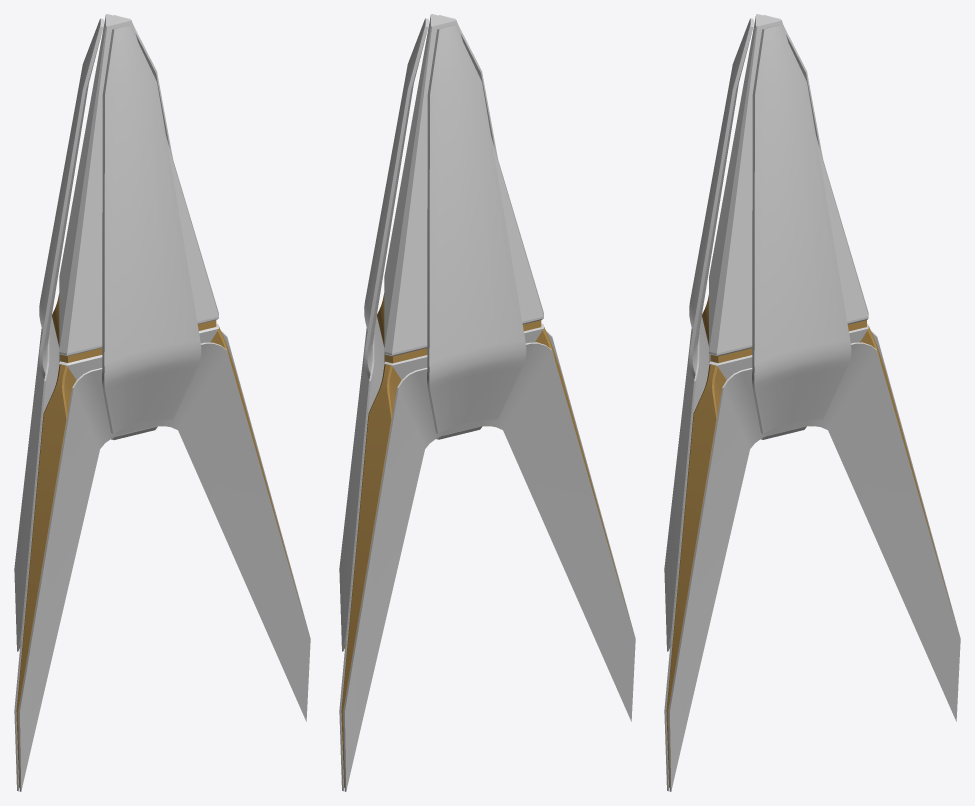
The model's file is centertower.glb.
3 renders of one model, left to right at view 1: azimuth 30°, elevation 25°; view 2: azimuth 150°, elevation 25°; view 3: azimuth 270°, elevation 25°, orthographic.
Parts seen in each view (by area): view 1: Plane.003, Plane, Cylinder.002, Cylinder.010, Plane.005, Plane.002, Cylinder.011, Plane.004; view 2: Plane.005, Plane.002, Cylinder.002, Cylinder.009, Plane.004, Plane.001, Cylinder.010, Plane.003; view 3: Plane.004, Plane.001, Cylinder.002, Cylinder.011, Plane.003, Plane, Cylinder.009, Plane.005.
Part boxes in pixels (bbox=[...]): Plane.003: bbox=[18, 342, 310, 791]; Plane: bbox=[102, 25, 201, 433]; Cylinder.002: bbox=[59, 14, 218, 439]; Cylinder.010: bbox=[16, 364, 76, 787]; Plane.005: bbox=[14, 316, 59, 791]; Plane.002: bbox=[39, 18, 103, 379]; Cylinder.011: bbox=[159, 327, 300, 606]; Plane.004: bbox=[19, 330, 310, 649]; Plane.005: bbox=[343, 342, 635, 791]; Plane.002: bbox=[427, 25, 526, 433]; Cylinder.002: bbox=[384, 14, 543, 439]; Cylinder.009: bbox=[341, 364, 401, 787]; Plane.004: bbox=[339, 316, 384, 791]; Plane.001: bbox=[364, 18, 428, 379]; Cylinder.010: bbox=[483, 327, 626, 607]; Plane.003: bbox=[344, 330, 635, 649]; Plane.004: bbox=[668, 342, 960, 791]; Plane.001: bbox=[752, 25, 851, 433]; Cylinder.002: bbox=[709, 14, 868, 439]; Cylinder.011: bbox=[666, 364, 726, 787]; Plane.003: bbox=[664, 316, 709, 791]; Plane: bbox=[689, 18, 753, 379]; Cylinder.009: bbox=[809, 326, 950, 605]; Plane.005: bbox=[669, 330, 960, 649].
Bounding box in the file's own units: 20.24 × 45.77 × 17.53.
